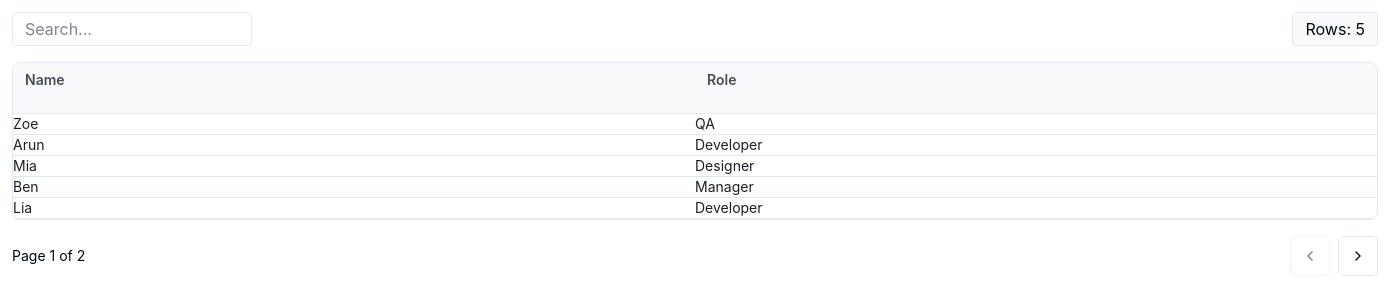
it: Table › resets to first page when search input changes
The image size is (1390, 293).
Click the button named "Next" at (1358, 256), box x1=1338 y1=236 x2=1378 y2=276
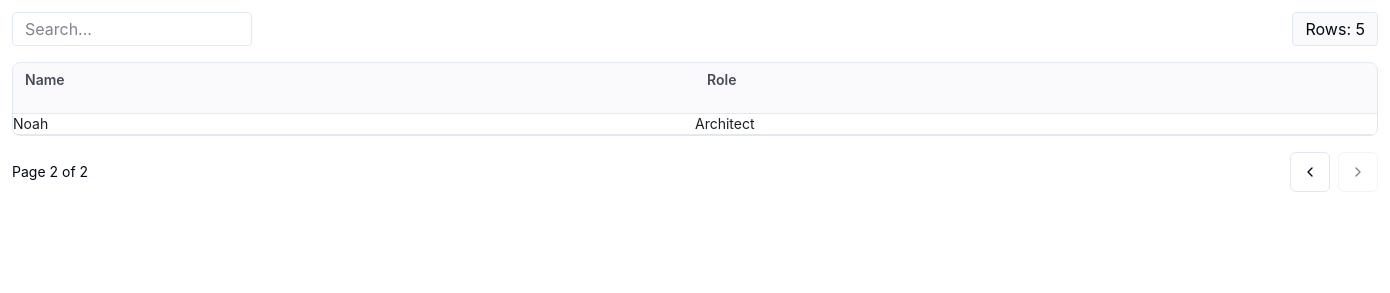
Expected: the text "Page 2 of 2" is shown, x1=12 y1=162 x2=88 y2=182
Type "zoe" into the field with placeholder "Search..." at (132, 29), box x1=12 y1=12 x2=252 y2=46
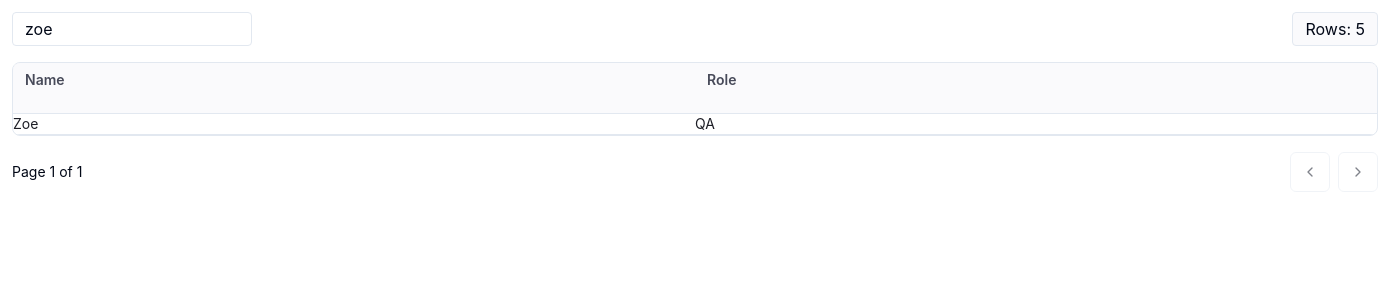
Expected: the text "Page 1 of 1" is shown, x1=12 y1=162 x2=82 y2=182
Expected: the text "Zoe" is shown, x1=13 y1=113 x2=695 y2=134
